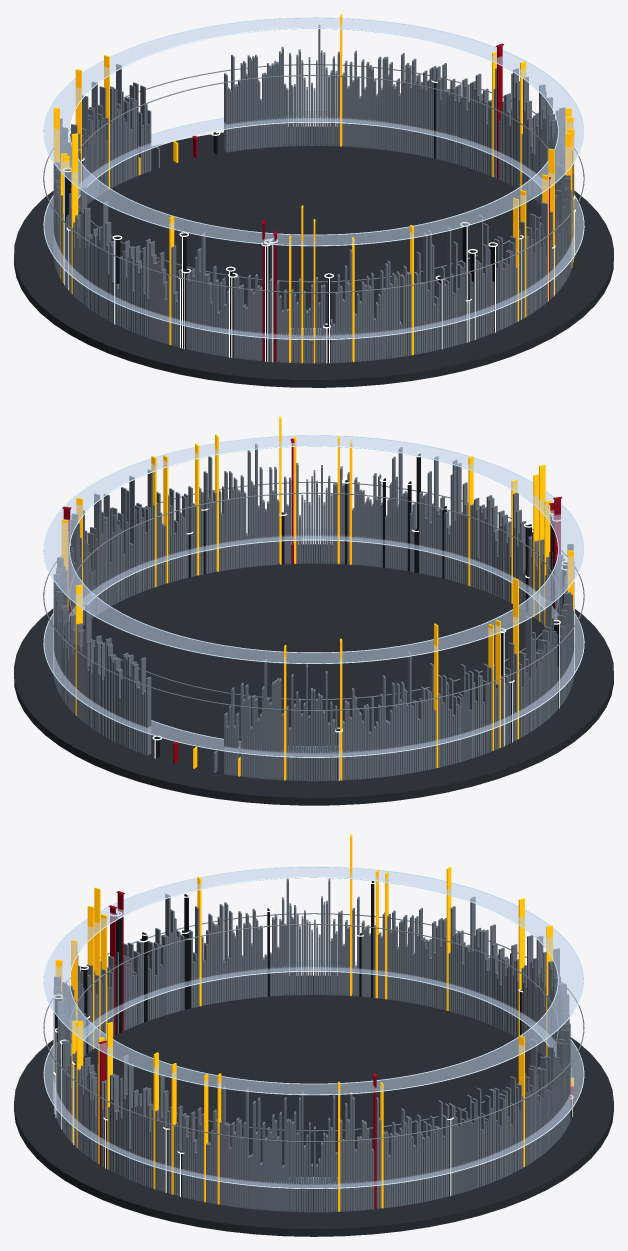
File: gauge.glb
3 renders of one model, top to bottom at view 1: azimuth 30°, elevation 25°; view 2: azimuth 150°, elevation 25°; view 3: azimuth 270°, elevation 25°, orthographic.
Visible parts, largest first — view 1: bars_pass, plinth, limit_ucl, bars_false_alarm, limit_lcl, missed_body, centre_line, missed_core, bars_true_alarm, missed_ring; view 2: bars_pass, plinth, limit_ucl, bars_false_alarm, limit_lcl, missed_body, centre_line, bars_true_alarm, missed_core; view 3: bars_pass, plinth, limit_ucl, bars_false_alarm, limit_lcl, missed_body, centre_line, bars_true_alarm, missed_core.
Boxes of the visible parts, x1,y1,x2,y2 form: bars_pass: (53,24,573,363); plinth: (14,126,613,387); limit_ucl: (43,17,584,246); bars_false_alarm: (53,14,574,363); limit_lcl: (43,111,584,340); missed_body: (64,80,553,362); centre_line: (43,64,584,293); missed_core: (64,172,574,363); bars_true_alarm: (261,43,550,362); missed_ring: (63,80,575,328); bars_pass: (53,443,574,781); plinth: (14,544,613,805); limit_ucl: (43,435,584,663); bars_false_alarm: (61,416,573,780); limit_lcl: (43,529,584,757); missed_body: (188,453,574,780); centre_line: (43,481,584,710); bars_true_alarm: (62,438,562,621); missed_core: (53,479,574,780); bars_pass: (53,878,570,1212); plinth: (14,975,613,1236); limit_ucl: (43,866,584,1095); bars_false_alarm: (55,834,552,1211); limit_lcl: (43,960,584,1188); missed_body: (55,881,521,1196); centre_line: (43,913,584,1142); bars_true_alarm: (98,891,377,1209); missed_core: (53,894,451,1196).
Size of the model in its own units: 2.8 by 0.8604 by 2.8.
